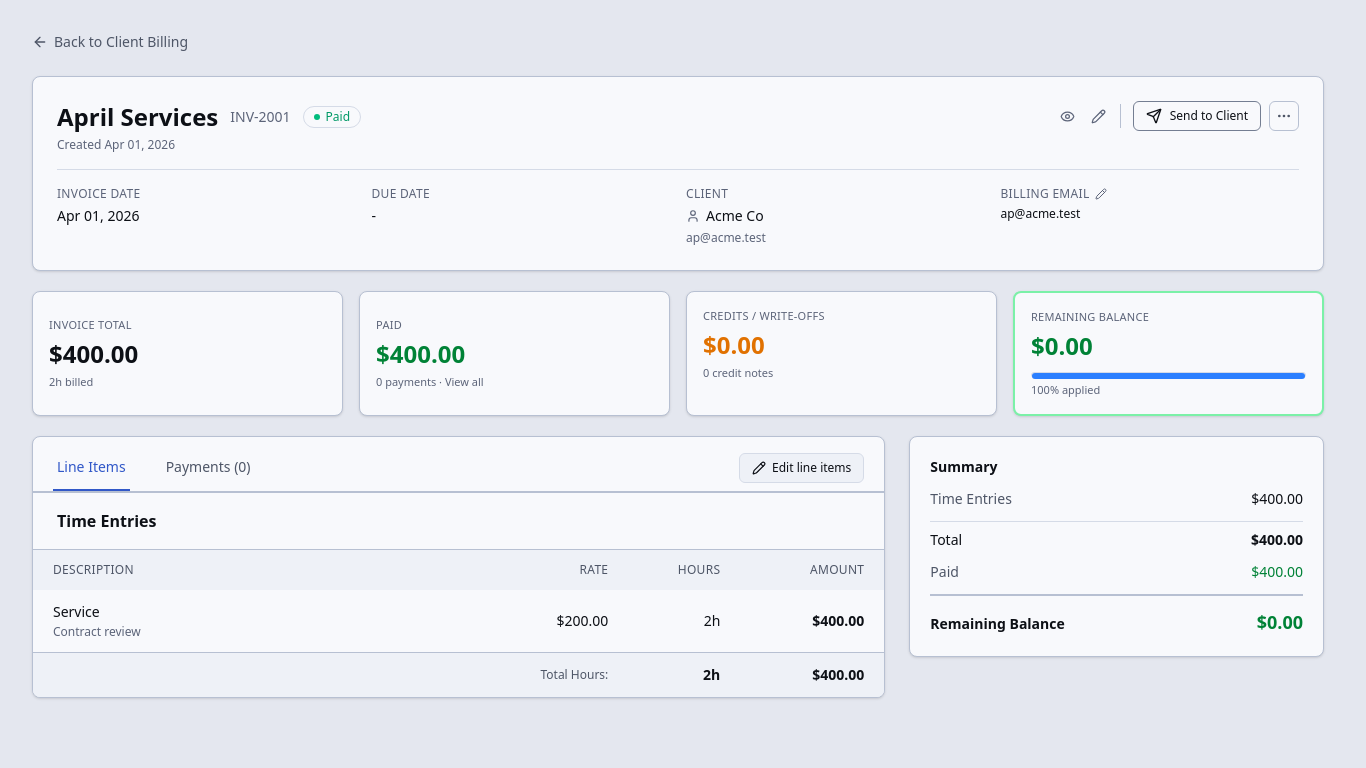
Test case: permission gating of the invoice actions › offers no balance-changing actions on a paid invoice, even to a full-access member
expect the heading "April Services" is shown: met, box [57,101,218,133]
Click the button named "More actions": (1284, 116) [1269,101,1299,131]
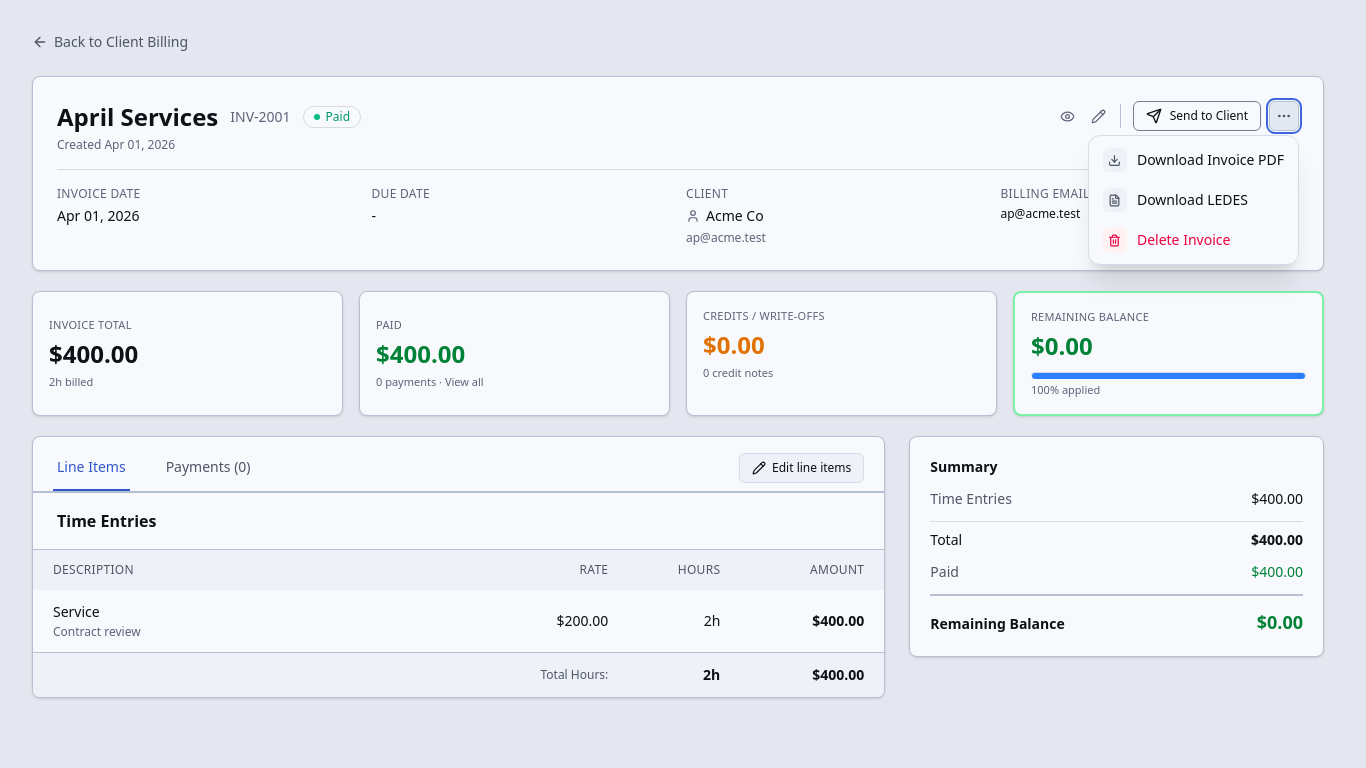
expect the button "Delete Invoice" is shown: met, box [1093,220,1294,260]
